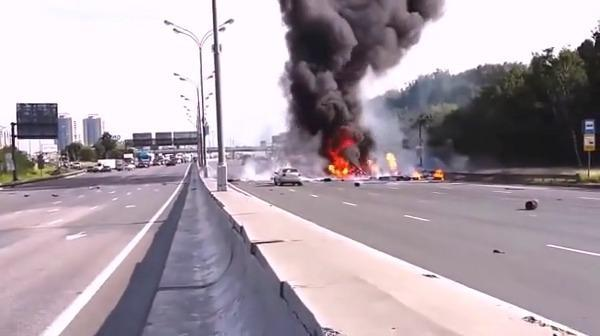fire: (320, 133, 377, 181), (383, 149, 402, 176), (431, 167, 447, 181), (411, 166, 424, 182)
